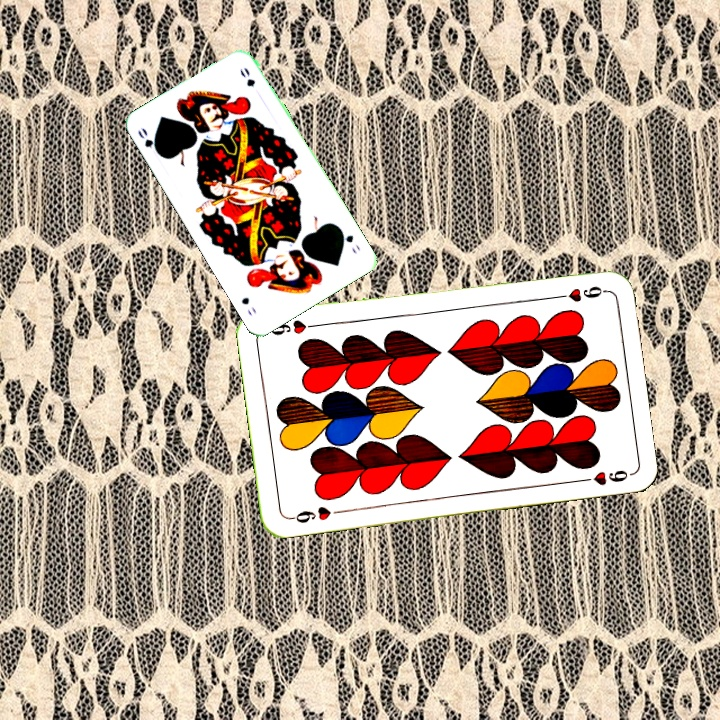GO: (134, 123, 164, 159), (335, 224, 363, 257)
H9: (285, 502, 344, 526), (549, 282, 608, 304)
